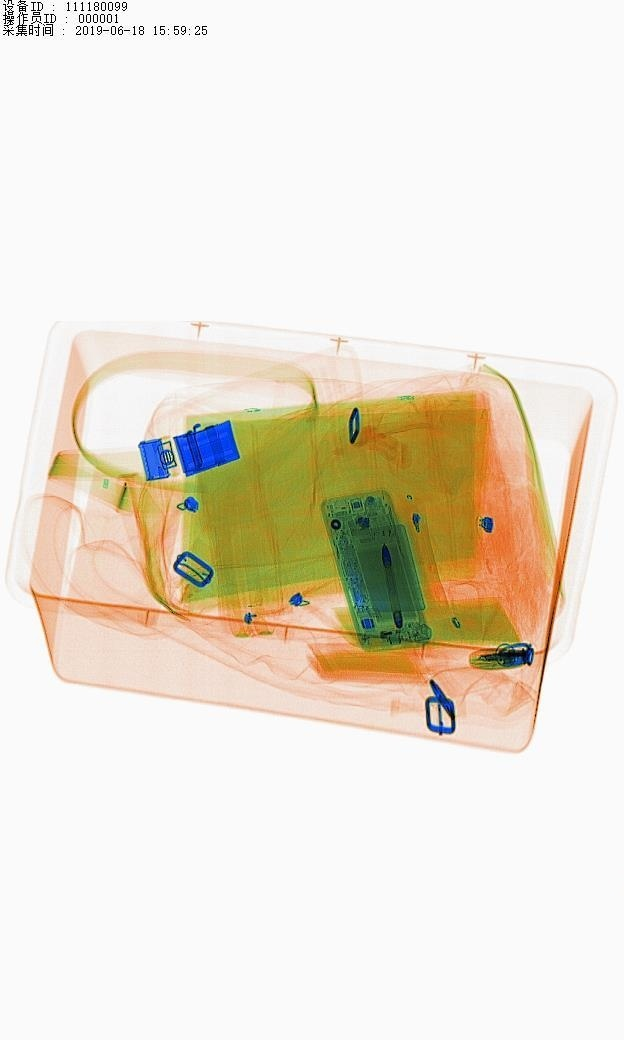NonmetallicFire: (343, 615, 441, 657)
